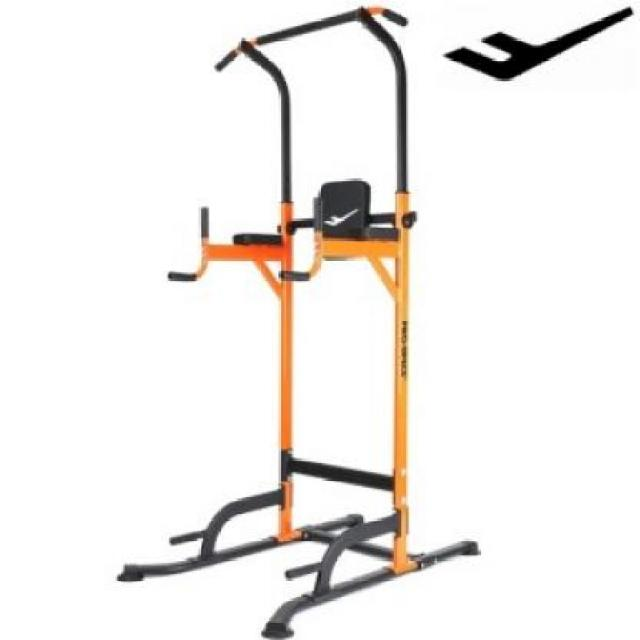chinning dipping: (119, 3, 478, 640)
